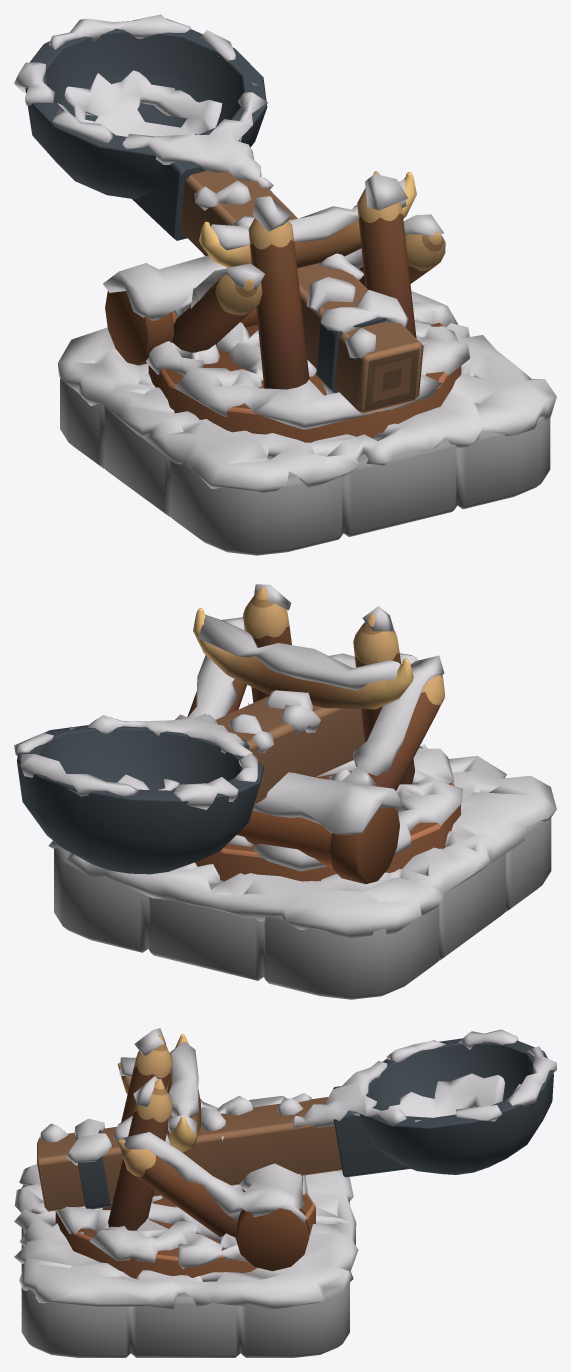
File: CatapulMiniSnowy_1.fbx
3 renders of one model, top to bottom at view 1: azimuth 30°, elevation 25°; view 2: azimuth 150°, elevation 25°; view 3: azimuth 270°, elevation 25°, orthographic. The views are drawn at different scales.
Visible parts, largest first — view 1: CatapulMiniSnowy_1, CattapultHead.001; view 2: CatapulMiniSnowy_1, CattapultHead.001; view 3: CatapulMiniSnowy_1, CattapultHead.001.
Part boxes in pixels (x1,y1,x2,y2): CatapulMiniSnowy_1: (58,171,556,555); CattapultHead.001: (14,14,423,413); CatapulMiniSnowy_1: (48,584,556,999); CattapultHead.001: (14,653,418,874); CatapulMiniSnowy_1: (14,1028,358,1357); CattapultHead.001: (37,1029,556,1211).
Bounding box in the file's own units: 203 × 156 × 322.
